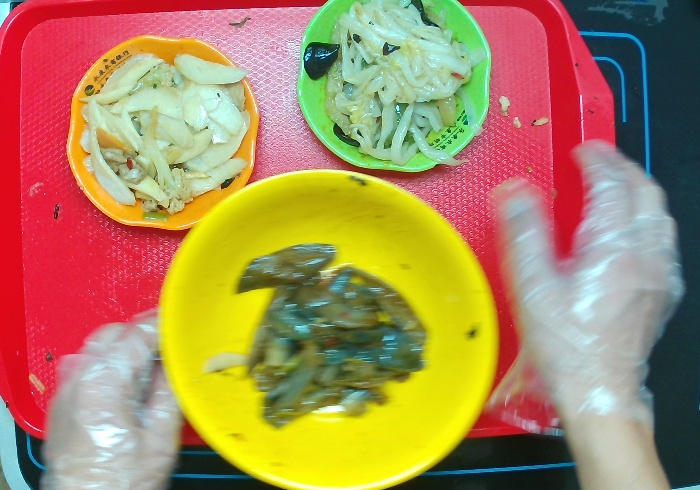YKMZ-Huang_Se_Tang_Wan: (155, 157, 501, 490)
YKMZ-Ju_Se_Ao_Bian_Wan: (58, 25, 268, 239)
YKMZ-Lv_Se_Ao_Bian_Wan: (283, 1, 506, 188)
